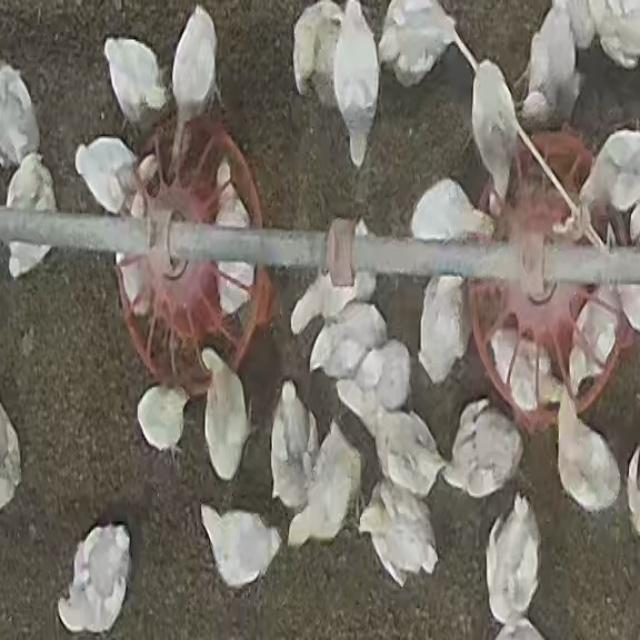chicken: (348, 388, 445, 495), (286, 424, 360, 546), (57, 520, 133, 634), (552, 387, 620, 512), (362, 478, 438, 587), (331, 0, 380, 168), (443, 402, 521, 498), (578, 130, 640, 248), (199, 506, 282, 591), (522, 4, 580, 124), (169, 4, 214, 158), (487, 495, 541, 623), (471, 59, 518, 204), (379, 1, 456, 87), (6, 156, 58, 279), (311, 300, 388, 382), (201, 347, 248, 481), (488, 333, 568, 406), (214, 162, 252, 314), (573, 271, 618, 394), (291, 1, 343, 104), (105, 33, 166, 120), (417, 276, 466, 384), (74, 136, 140, 216), (270, 382, 312, 506), (411, 179, 488, 242), (118, 186, 154, 318), (1, 62, 40, 167), (136, 383, 188, 458)
